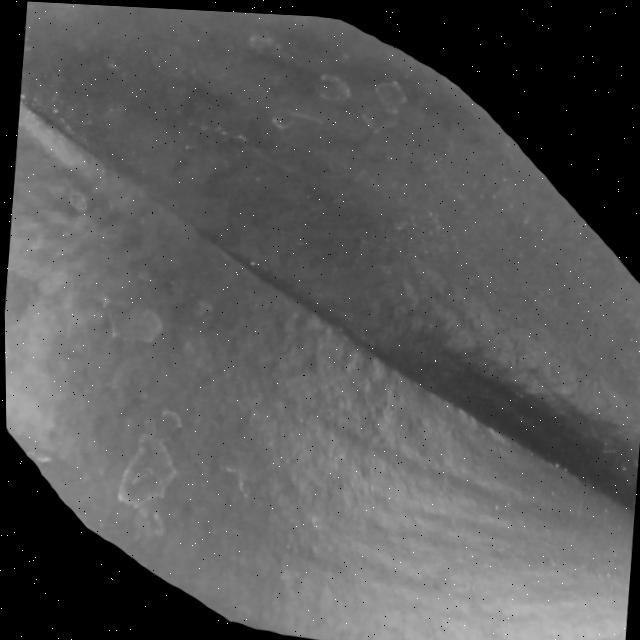mite: (38, 178, 183, 353), (307, 59, 412, 133), (356, 68, 410, 131), (106, 297, 164, 345), (370, 70, 410, 111), (312, 65, 354, 100), (64, 185, 90, 212)
spots: (4, 1, 640, 640)
